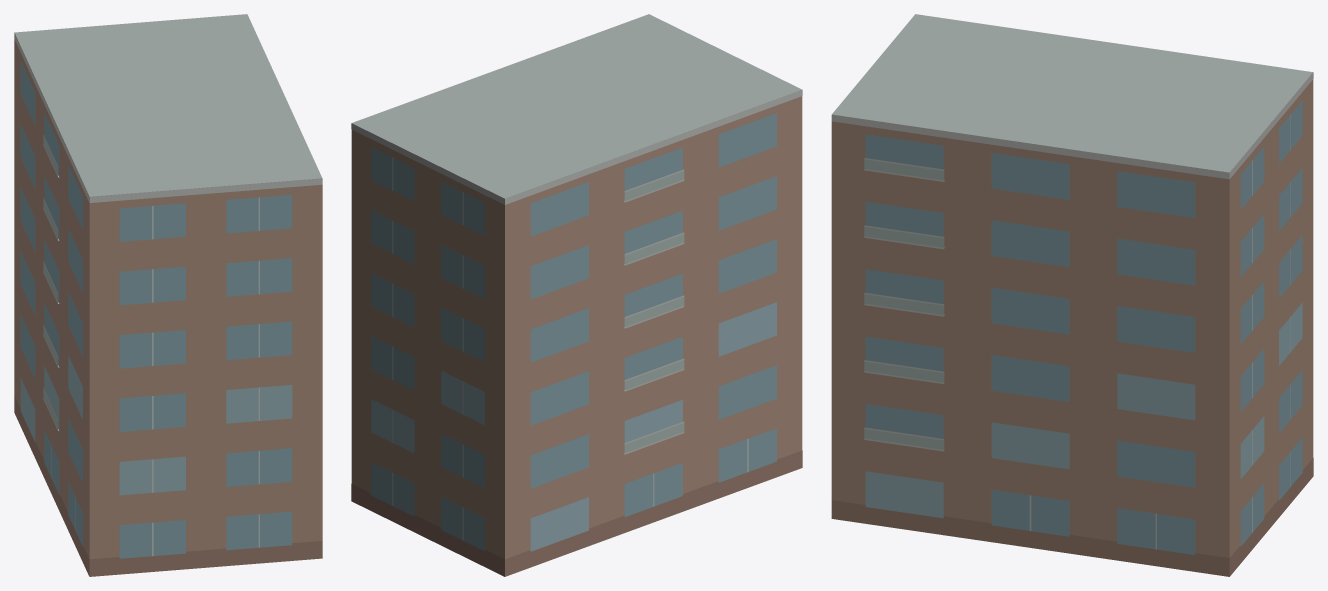
The model's file is survey-upis-32852639.glb.
3 views of the same model, side by side, from view 1: azimuth 30°, elevation 25°; view 2: azimuth 150°, elevation 25°; view 3: azimuth 270°, elevation 25° (orthographic). The views are drawn at different scales.
Parts seen in each view (by area): view 1: survey-upis-32852639.tmp; view 2: survey-upis-32852639.tmp; view 3: survey-upis-32852639.tmp.
Part boxes in pixels (left/top/right/bottom): survey-upis-32852639.tmp: left=14, top=14, right=322, bottom=576; survey-upis-32852639.tmp: left=351, top=14, right=802, bottom=576; survey-upis-32852639.tmp: left=831, top=14, right=1313, bottom=576.
Bounding box in the file's own units: 12.25 × 14.55 × 15.72.
